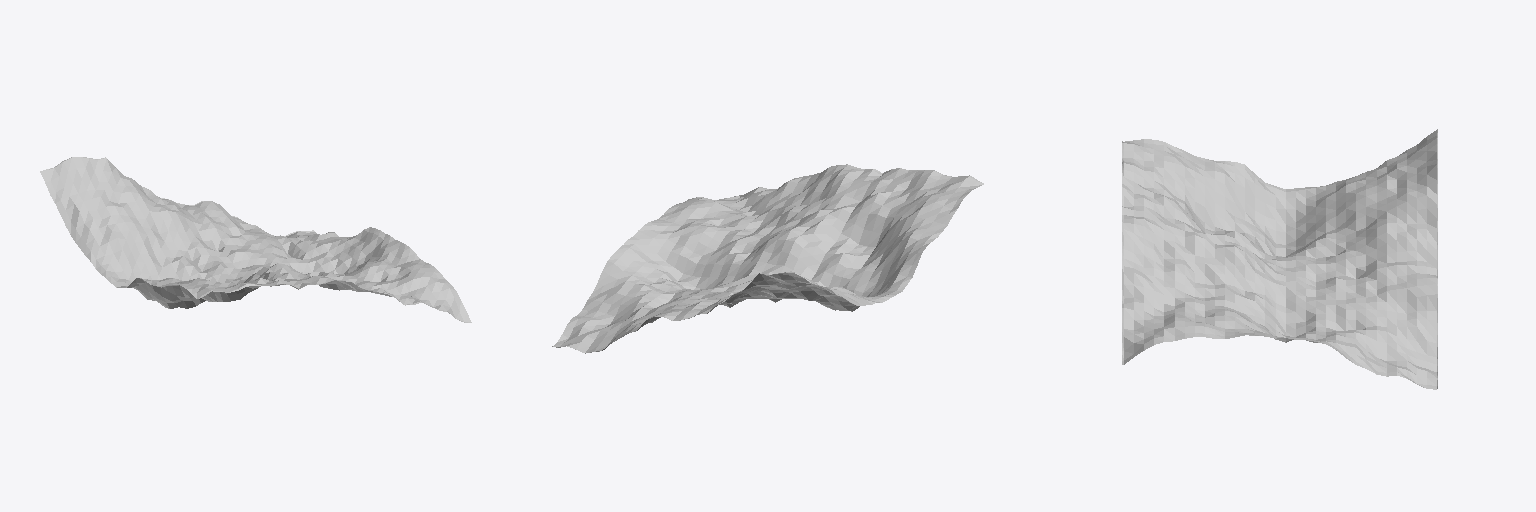
File: heightmap.033.obj
3 views of the same model, side by side, from view 1: azimuth 30°, elevation 25°; view 2: azimuth 150°, elevation 25°; view 3: azimuth 270°, elevation 25° (orthographic).
Visible parts, largest first — view 1: heightmap.033_Plane.033; view 2: heightmap.033_Plane.033; view 3: heightmap.033_Plane.033.
Boxes of the visible parts, x1,y1,x2,y2 form: heightmap.033_Plane.033: [40, 157, 471, 322]; heightmap.033_Plane.033: [552, 164, 983, 353]; heightmap.033_Plane.033: [1122, 129, 1437, 389].
Bounding box in the file's own units: 32 × 14.88 × 32.